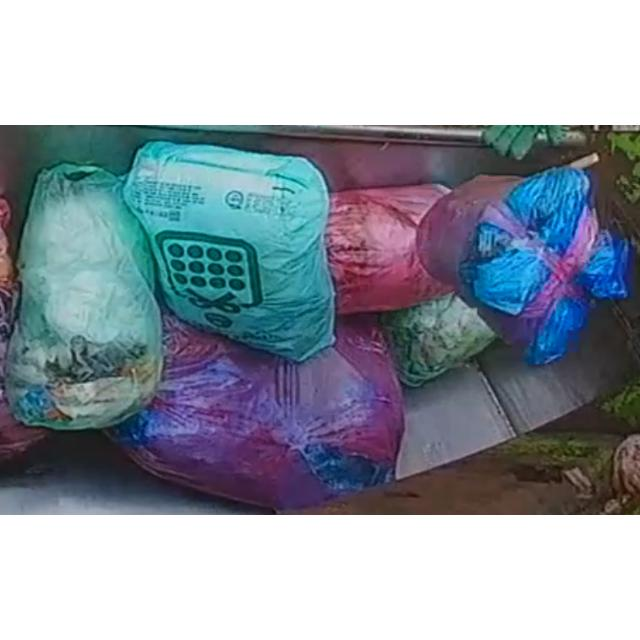general_trashbag: (122, 141, 335, 362), (8, 162, 162, 430), (380, 294, 496, 388)
other_trashbag: (109, 311, 404, 509), (419, 166, 634, 364), (328, 184, 454, 314)
